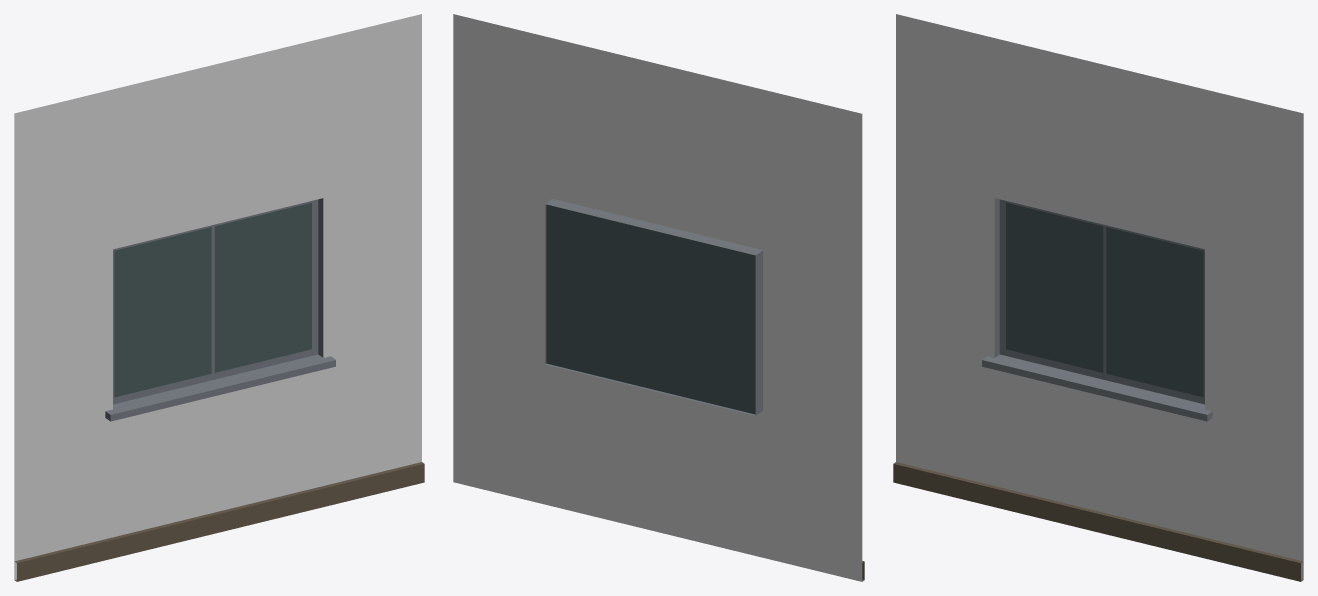
Rendered from top-w1.fbx.
The picture shows the model from 3 angles, left to right: view 1: azimuth 30°, elevation 25°; view 2: azimuth 150°, elevation 25°; view 3: azimuth 330°, elevation 25°; orthographic projection.
Visible parts, largest first — view 1: a2000/0/top-w1; view 2: a2000/0/top-w1; view 3: a2000/0/top-w1.
Boxes of the visible parts, left/top/right/bottom form: a2000/0/top-w1: left=14, top=14, right=424, bottom=581; a2000/0/top-w1: left=453, top=14, right=864, bottom=581; a2000/0/top-w1: left=893, top=14, right=1303, bottom=581.
Size of the model in its own units: 3.2 by 3.5 by 0.17.
